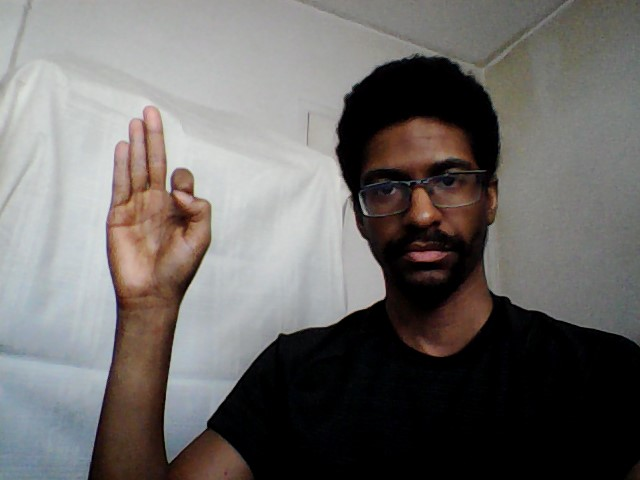f: (102, 101, 215, 310)
